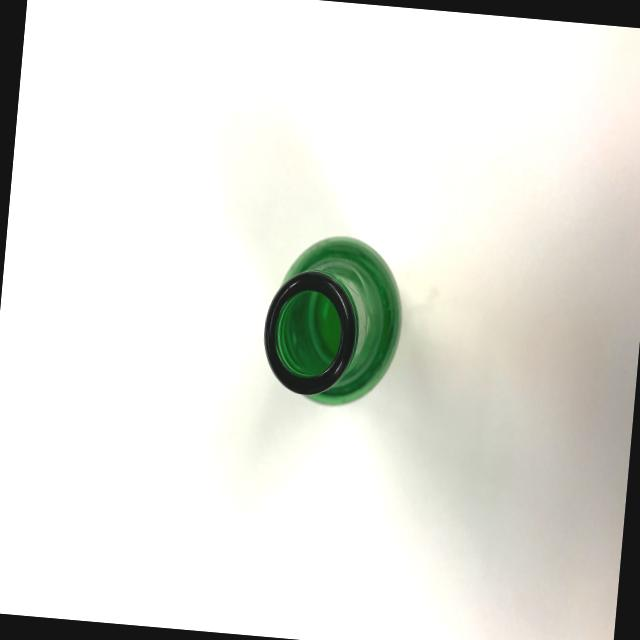Glass: (214, 208, 445, 436)
